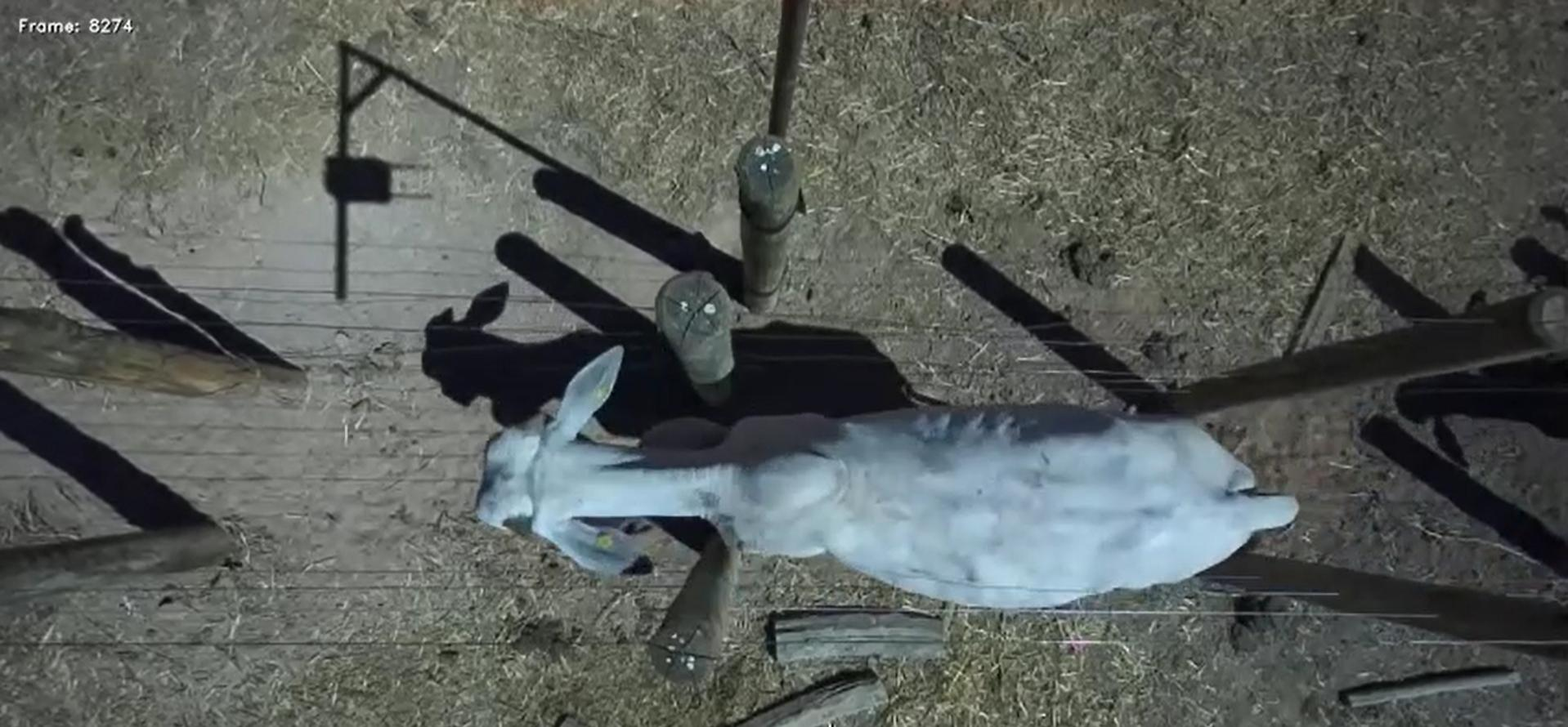cattle: (466, 334, 1309, 630)
